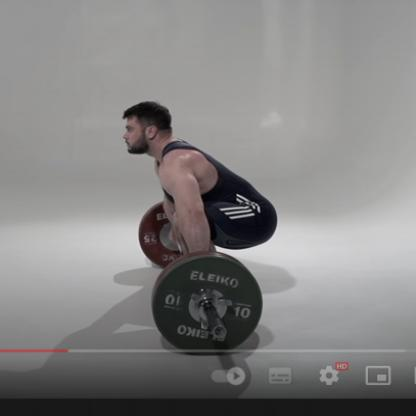Barbell: (138, 244, 270, 359)
